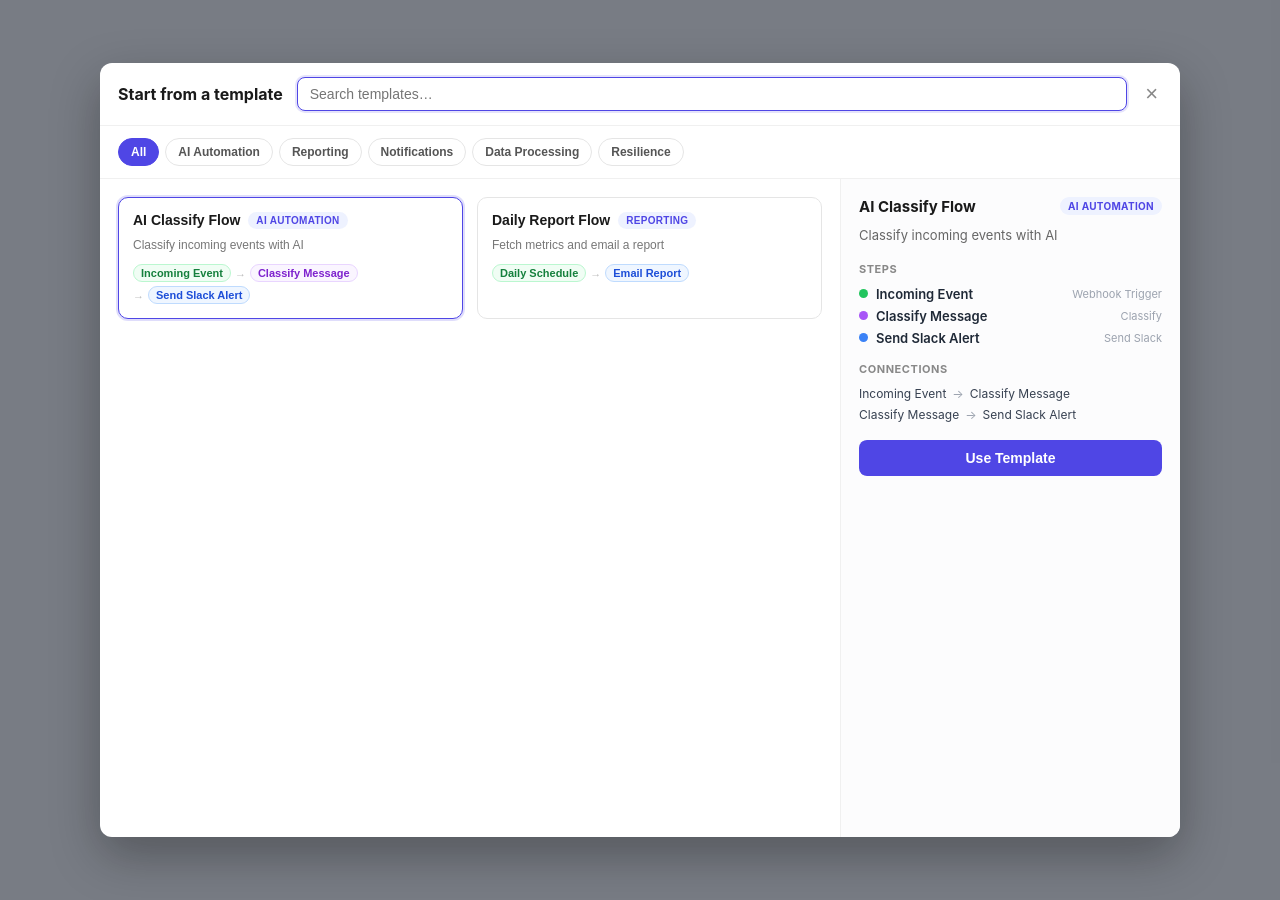
Test: TemplateGallery › filters the list by category
expect the button "Classify incoming events" is shown: met, box x1=118 y1=197 x2=463 y2=319
Click the button "Reporting".
click(320, 152)  # box x1=279 y1=138 x2=362 y2=166
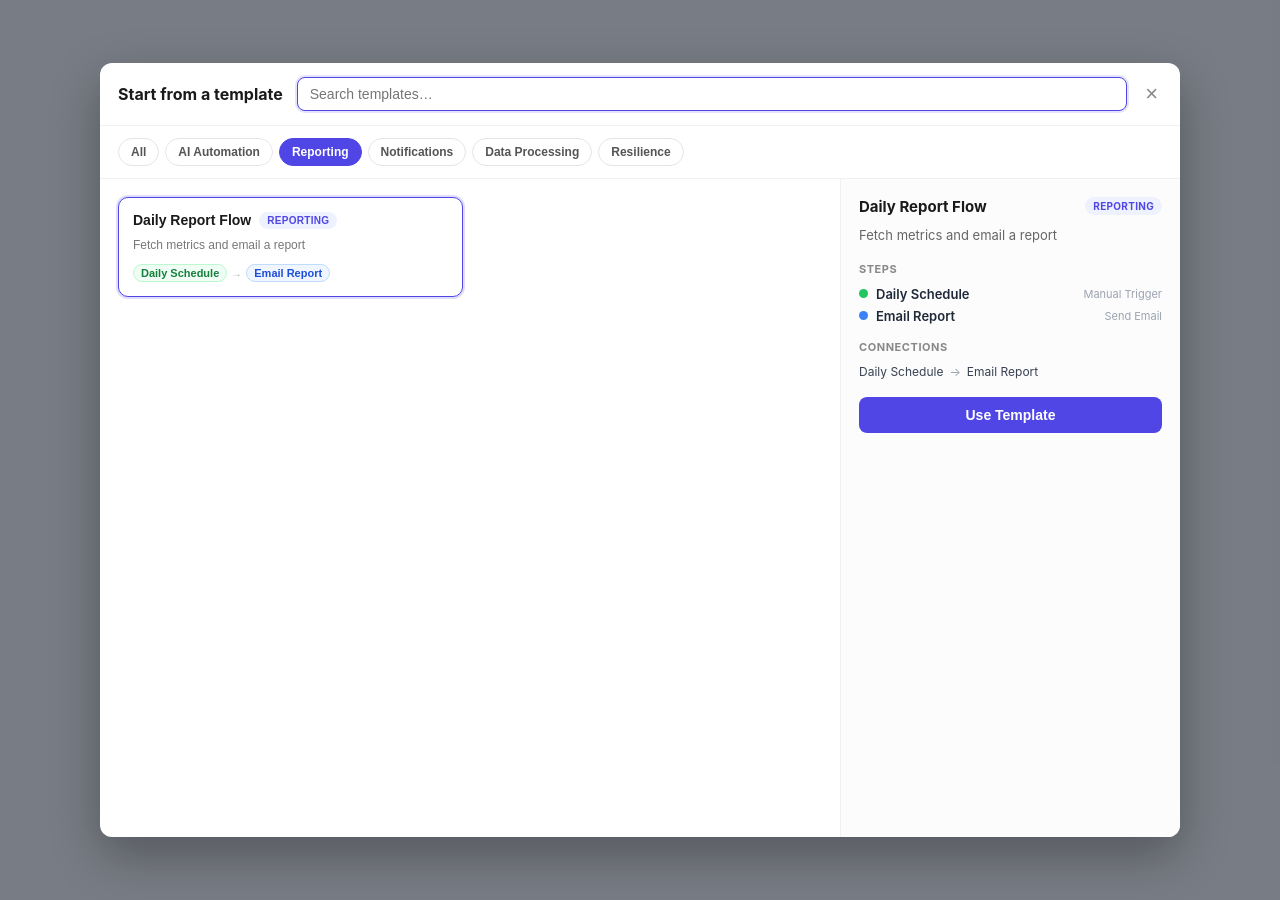
expect the button "Fetch metrics and email a report" is shown: met, box x1=118 y1=197 x2=463 y2=297
expect the button "Classify incoming events" is gone: met
